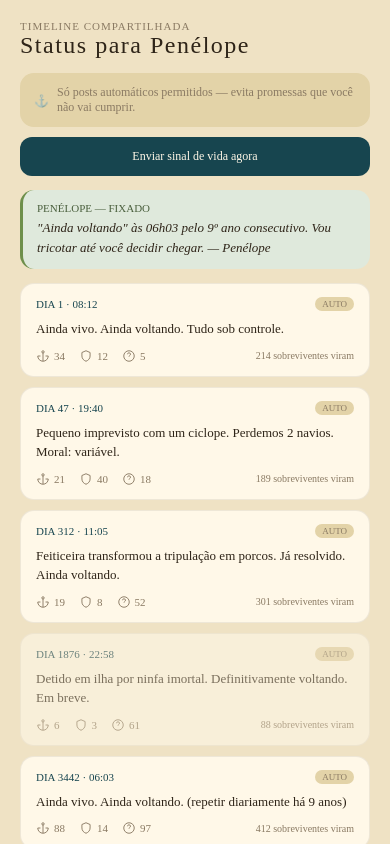
Test: PenelopeScreen › tocar num ícone de reação incrementa o contador exibido
The width and height of the screenshot is (390, 844).
Click the button named "Reagir com âncora, 34": {"x": 50, "y": 356} top-left (36, 348), bottom-right (65, 362)
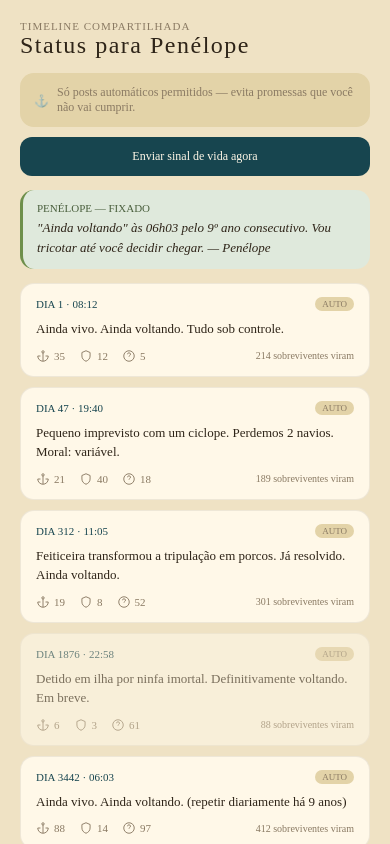
Expected: the button named "Reagir com âncora, 35" is shown, top-left (36, 348), bottom-right (65, 362)
